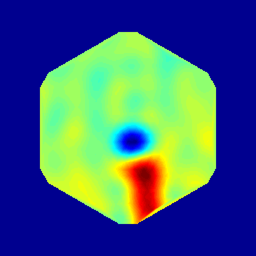ship: (122, 131, 147, 156)
wave: (128, 146, 151, 187)
